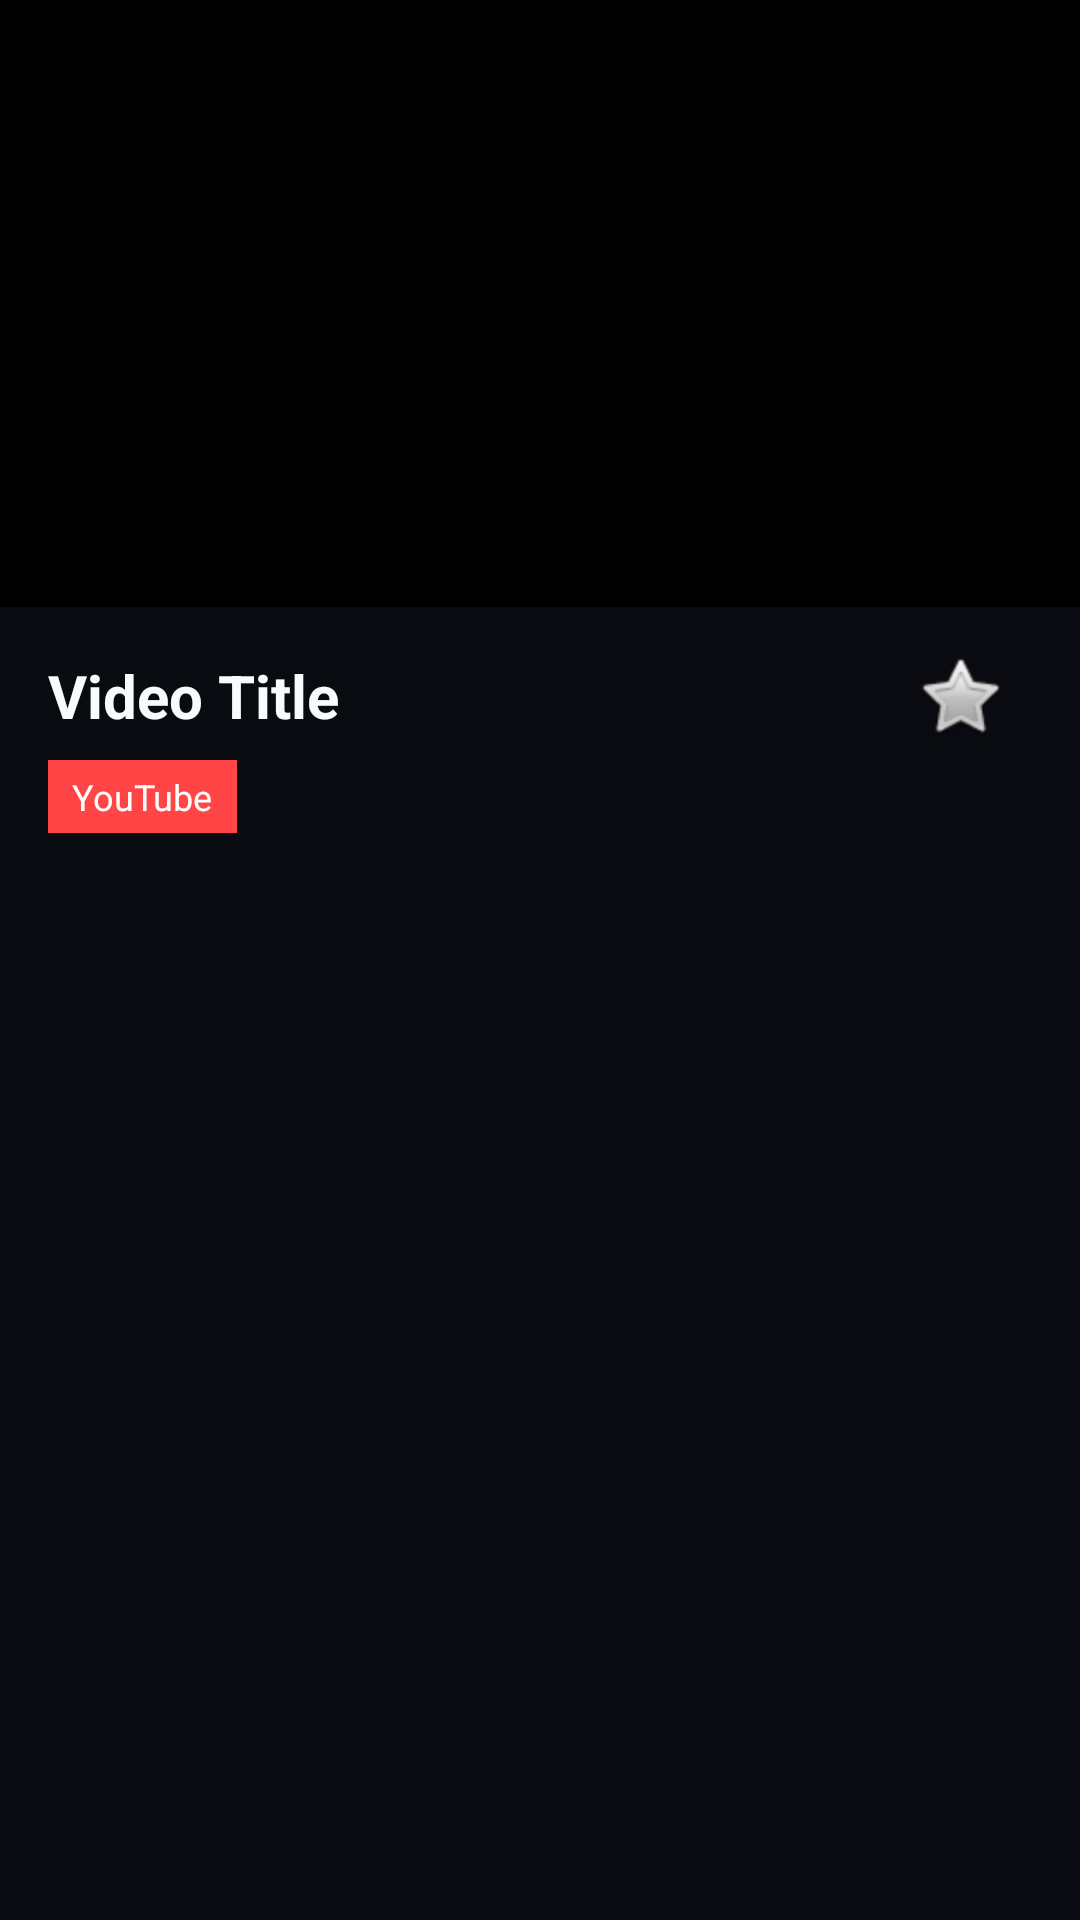

Locate icon controls on the screen. Image size 1080 × 1920, boxes as (x1, y1, x2, y2).
star: (922, 659, 999, 732)
